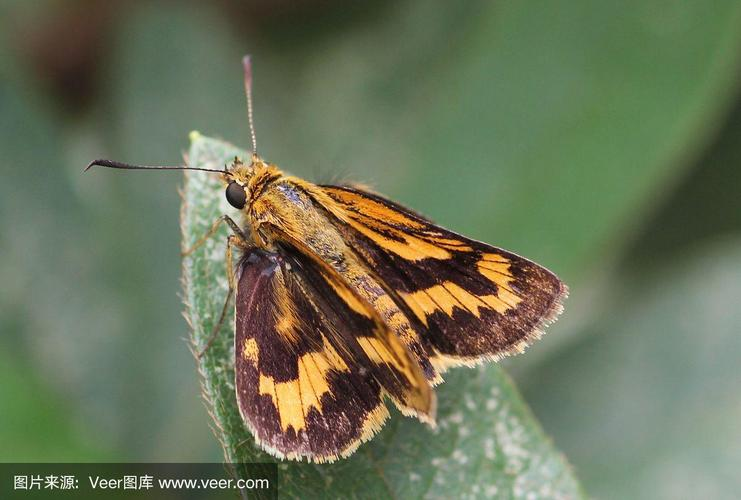Hesperiidae: (79, 50, 572, 464)
